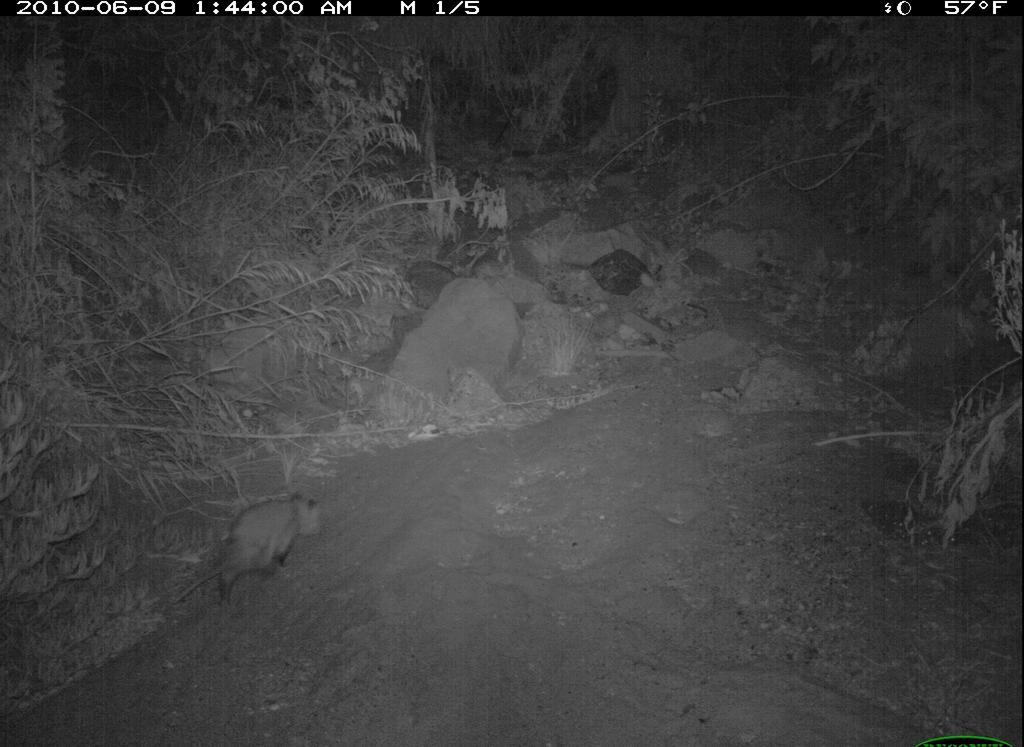opossum: (166, 482, 347, 617)
